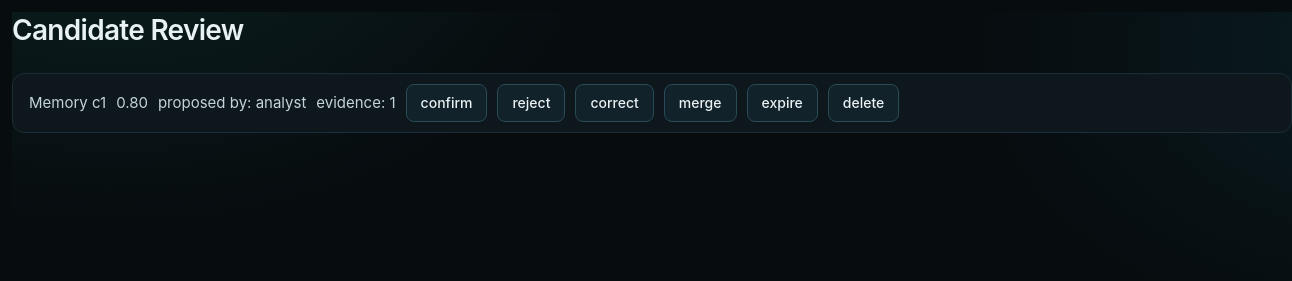
CandidateReviewPage › rolls back and shows a conflict when the decision conflicts
Check: the list item with test id "candidate-c1" is shown, box [12,73,1291,133]
Click the button "confirm": (447, 103) [406,84,488,122]
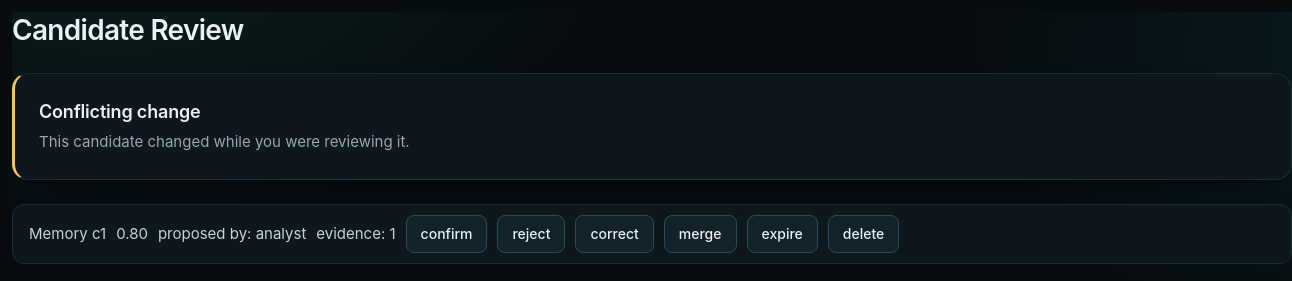
Check: the list item with test id "candidate-c1" is shown, box [12,204,1291,264]
Check: the heading "Conflicting change" is shown, box [39,101,200,122]
